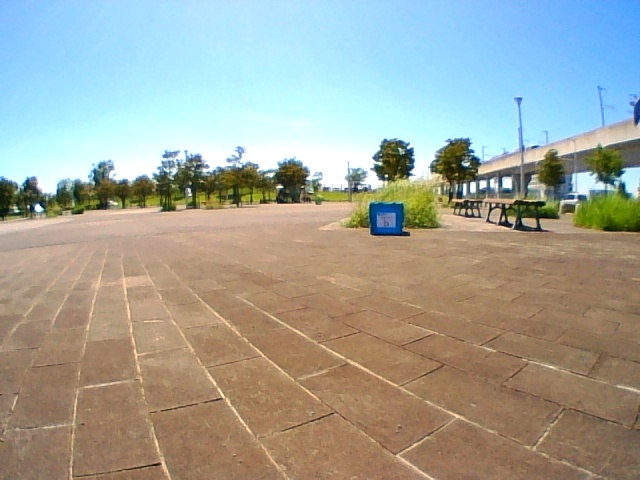blue_box: (370, 204, 404, 234)
tag_b: (377, 212, 394, 228)
